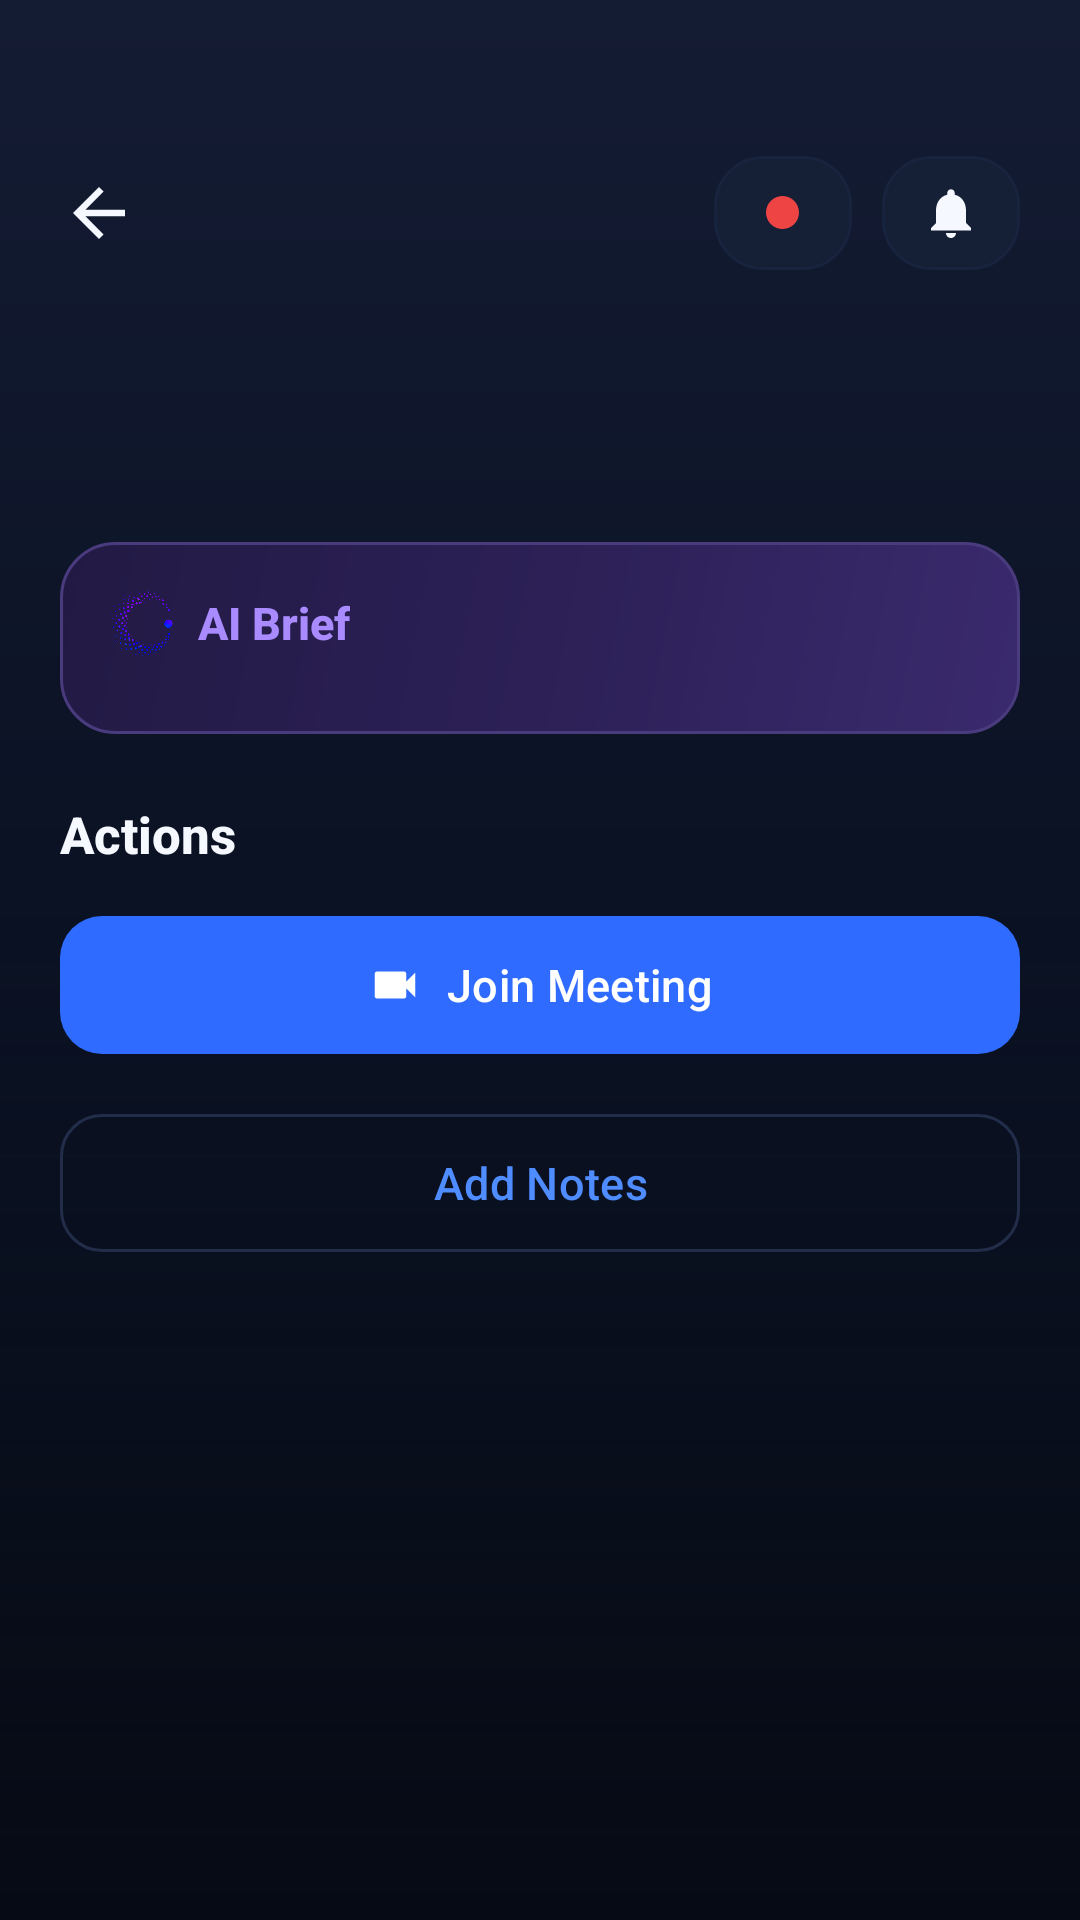

Icons on this 1080px×1920px Android screen, each with its box as (x1, y1, x2, y2):
arrow back: (73, 187, 125, 239)
bell: (931, 189, 971, 238)
